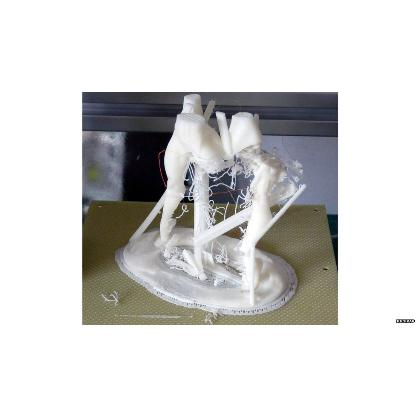fail: (200, 158, 258, 222)
